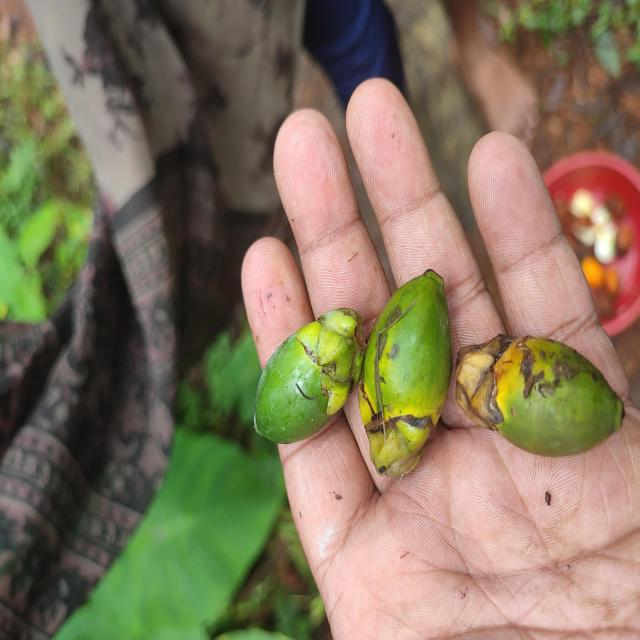damaged: (360, 271, 452, 491), (462, 336, 625, 459), (253, 308, 366, 445)
